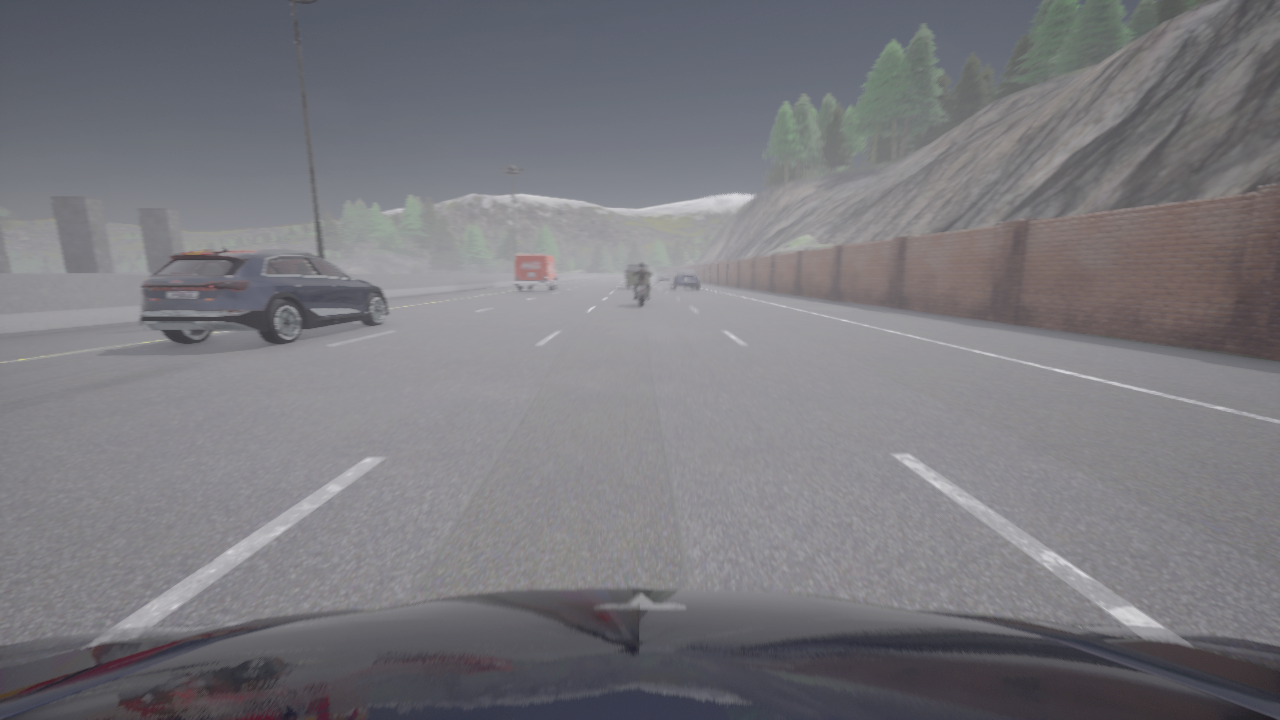cyclist: (0, 588, 1279, 719), (140, 247, 388, 344), (513, 254, 559, 290), (669, 270, 698, 289), (626, 263, 648, 288), (636, 275, 649, 306), (656, 273, 671, 283)
